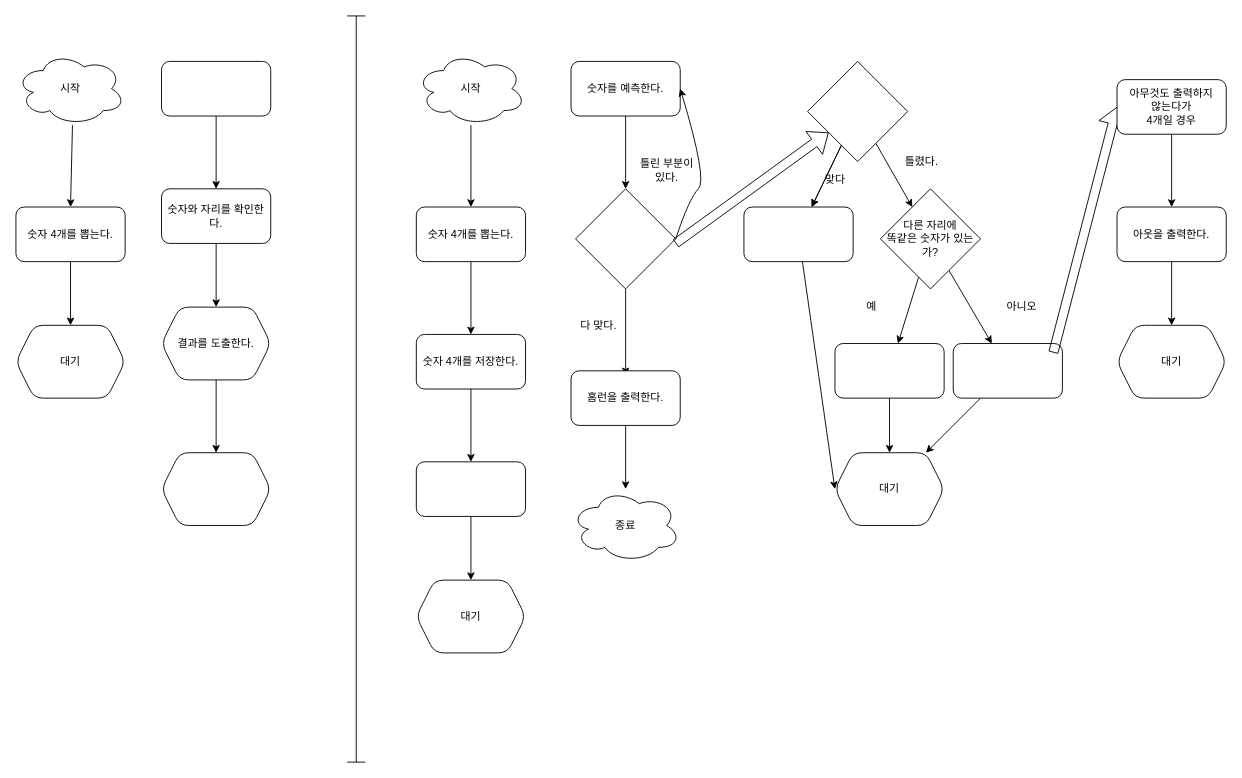
The diagram is 1242 pixels wide and 778 high, and some of its shapes have lost their labels. The shapes that lost their labels are listed below. From the top down, each one's box as (x1, y1, x2, y2) in pixels, then its label:
(161, 61, 271, 116): 상대방이 예측 숫자를 입력한다.
(807, 61, 908, 162): 첫번째 자리의 숫자를 비교한다.
(575, 188, 676, 289): 숫자와 자리를 비교한다.
(743, 206, 853, 262): 스트라이크를 출력한다.
(834, 343, 944, 398): 볼을 출력한다.
(952, 343, 1062, 398): 아무것도 출력하지 않는다.
(161, 452, 271, 526): 대기 or 종료
(415, 461, 526, 516): 스트라이크, 볼, 아웃, 홈런을 저장한다.
